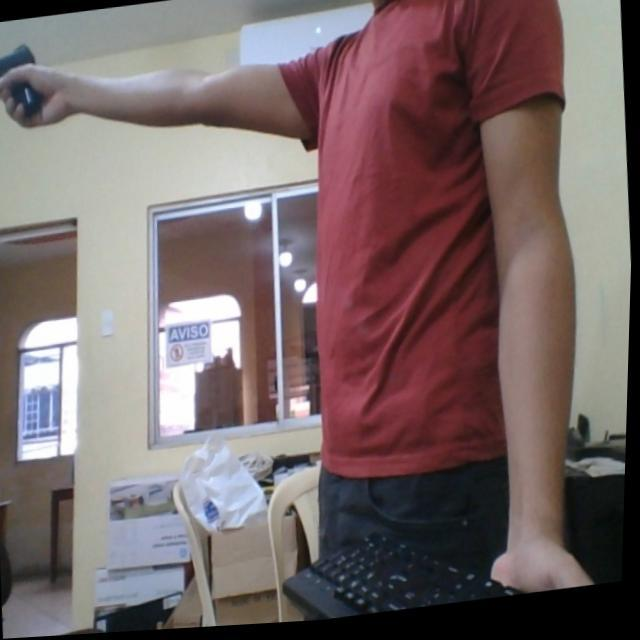weapon: (0, 39, 45, 122)
